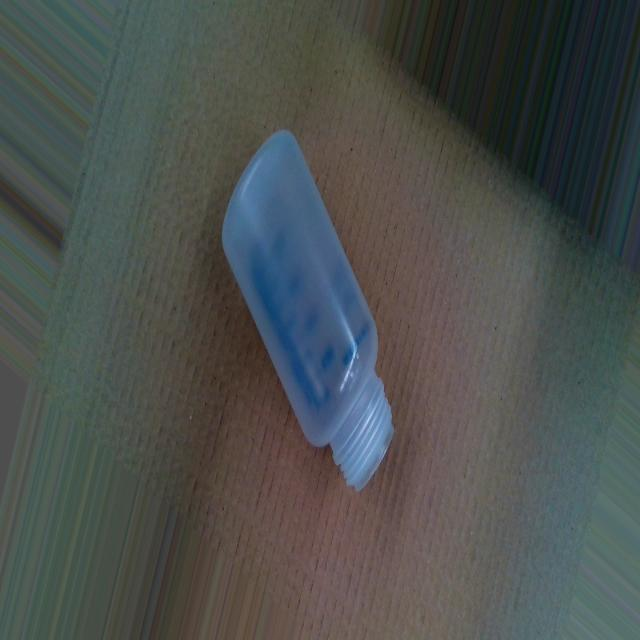bottle: (217, 126, 396, 501)
